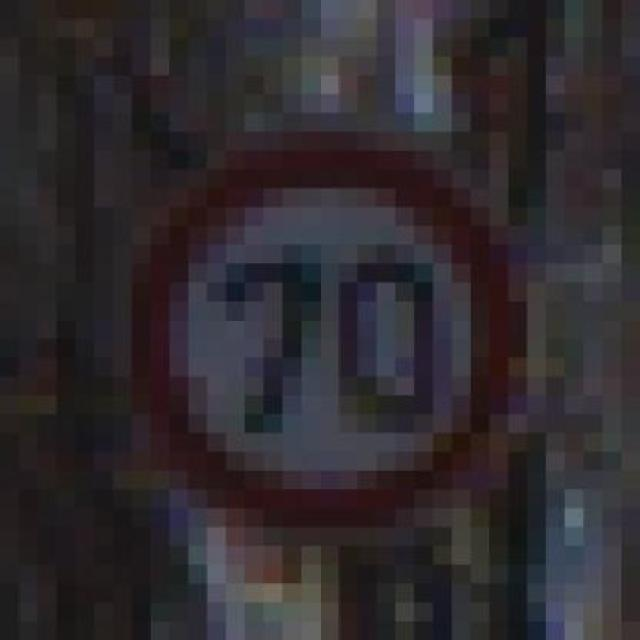forb_speed_over_70: (140, 139, 512, 521)
